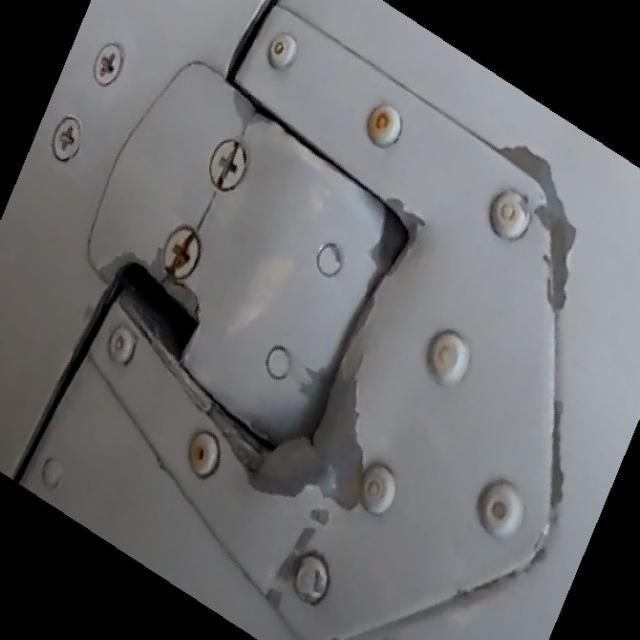crack: (180, 188, 227, 236)
